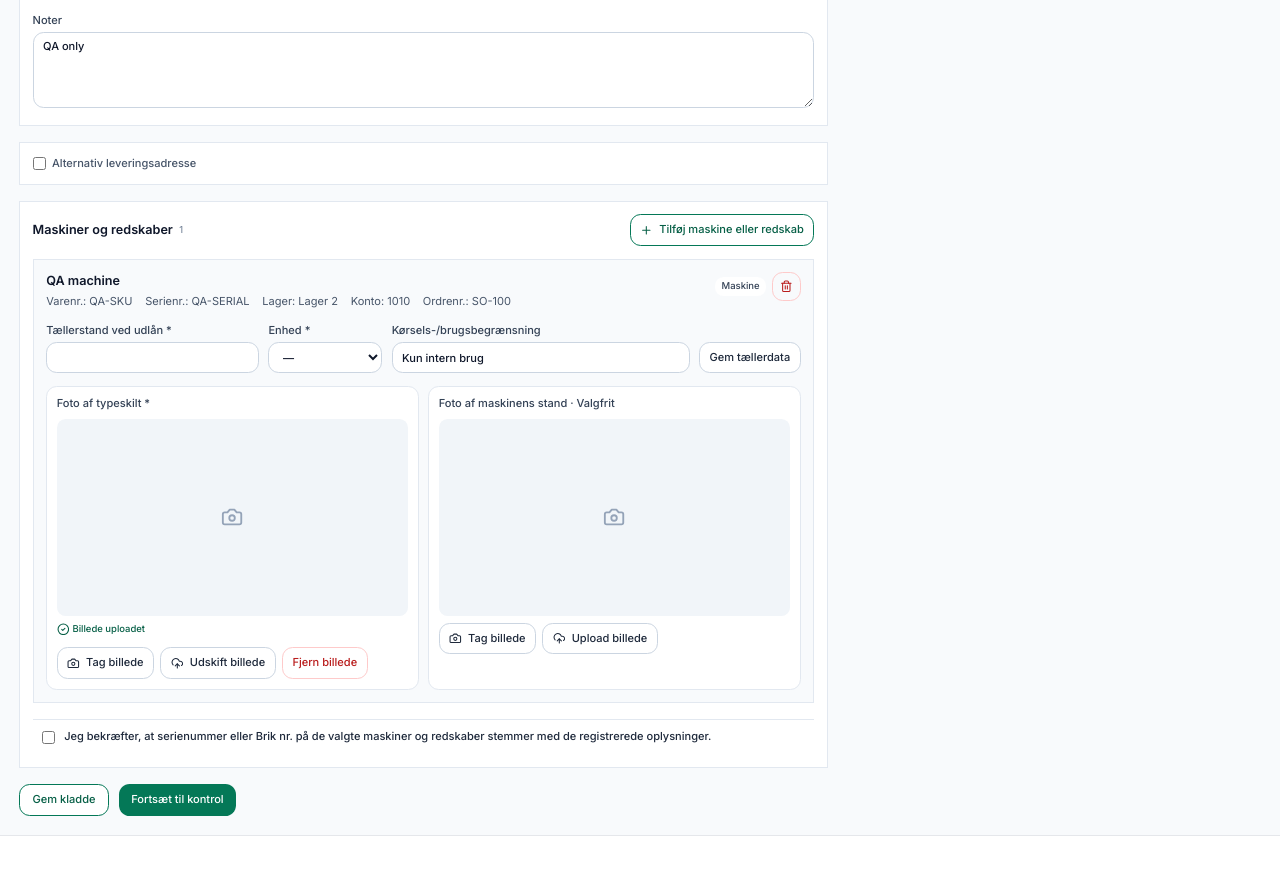
Test case: Loan form interactions › blocks incomplete evidence before any review or version request
(page scrolled)
Click the button "Fortsæt til kontrol" at (177, 800), box [119, 784, 236, 816]
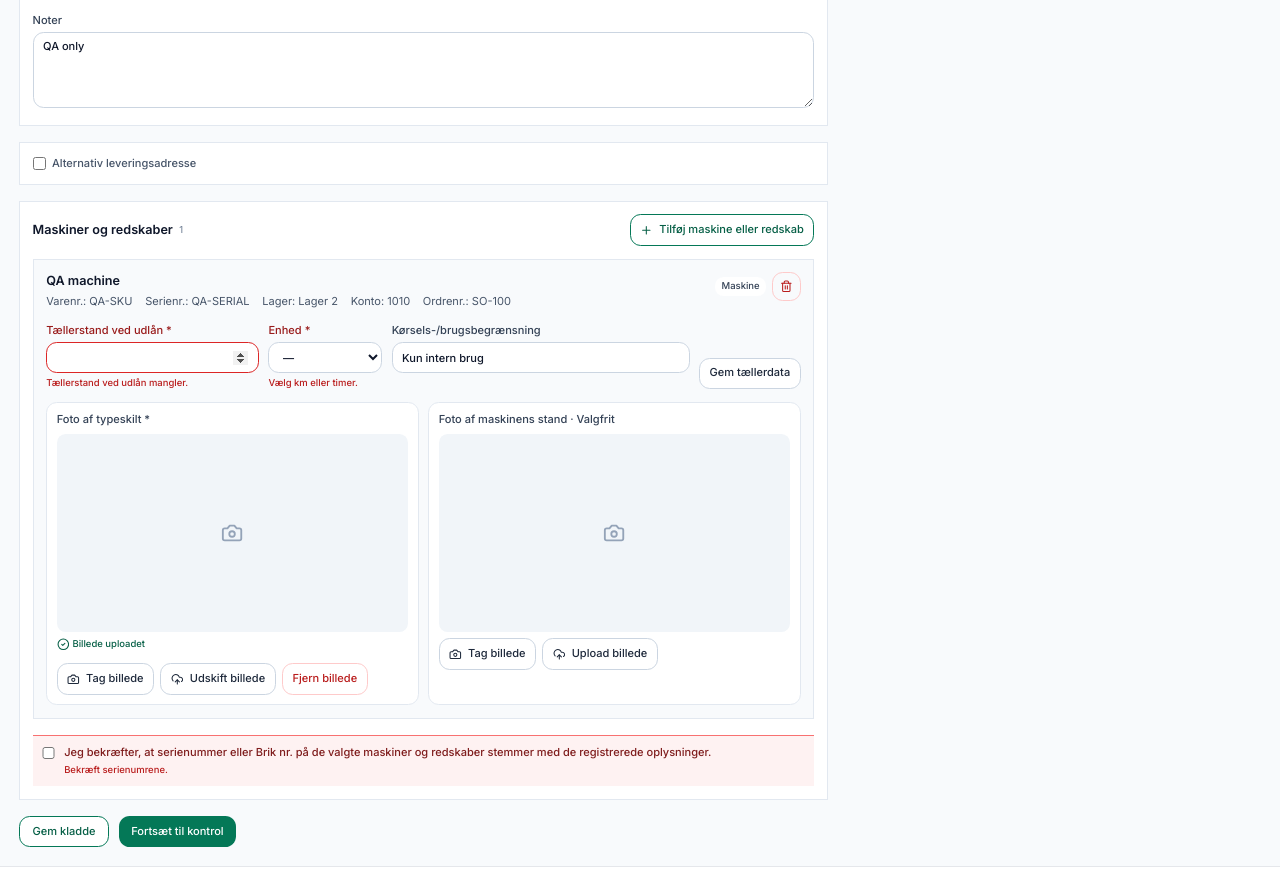
Check: the dropdown labelled "Enhed * Vælg km eller timer." is shown, box [268, 342, 382, 373]
Check: the text "Tællerstand ved udlån mangler." is shown, box [46, 376, 188, 388]
Check: the text "Bekræft serienumrene." is shown once, box [64, 764, 168, 775]
Type "12" into the number field labelled "Tællerstand ved udlån * Tællerstand ved udlån mangler." at (153, 358), box [46, 342, 259, 373]
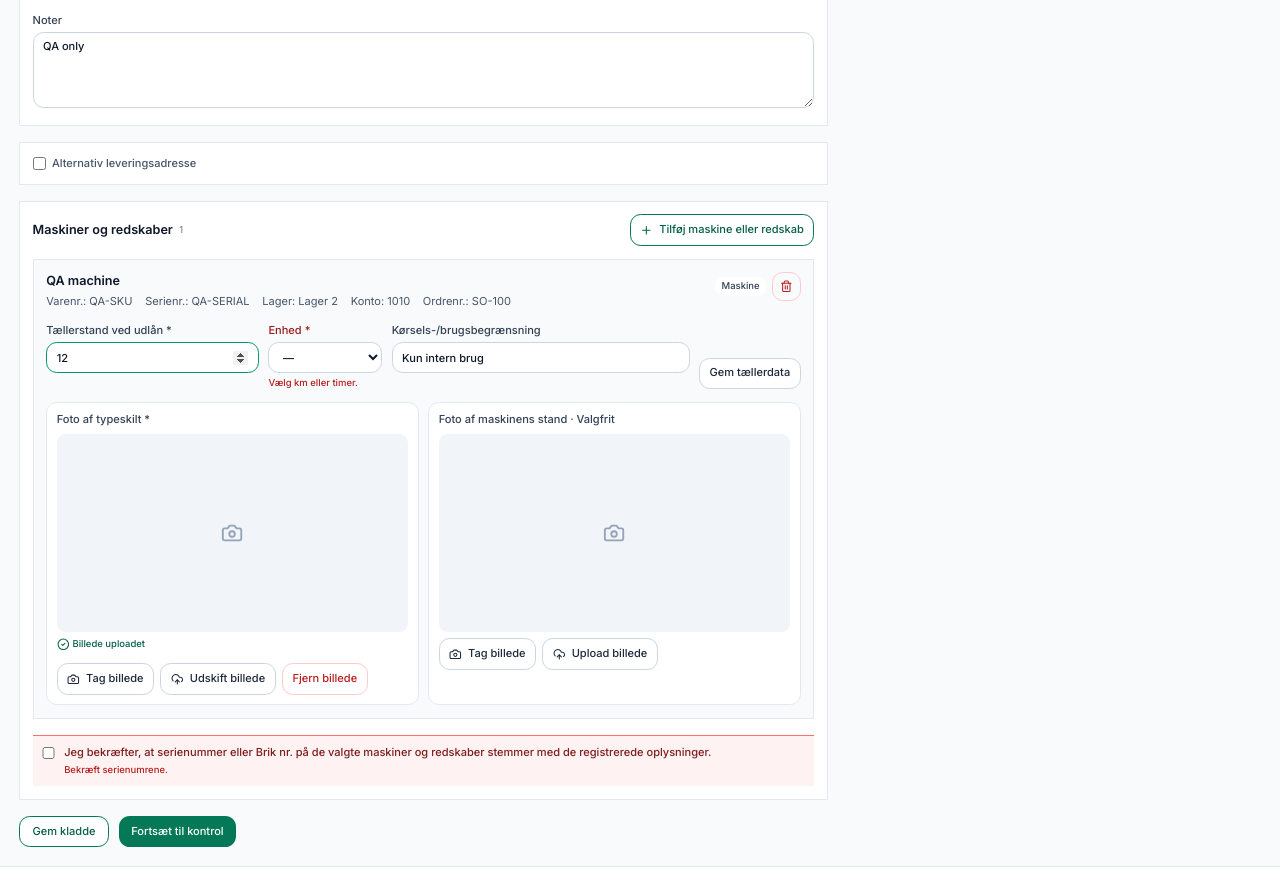
Check: the number field labelled "Tællerstand ved udlån *" does not have class "border-red-500", box [46, 342, 259, 373]
Check: the label labelled "Jeg bekræfter, at serienummer eller Brik nr." has class "border-red-400", box [33, 735, 814, 786]
Click the checkbox labelled "Jeg bekræfter, at serienummer eller Brik nr." at (48, 753), box [42, 747, 55, 759]
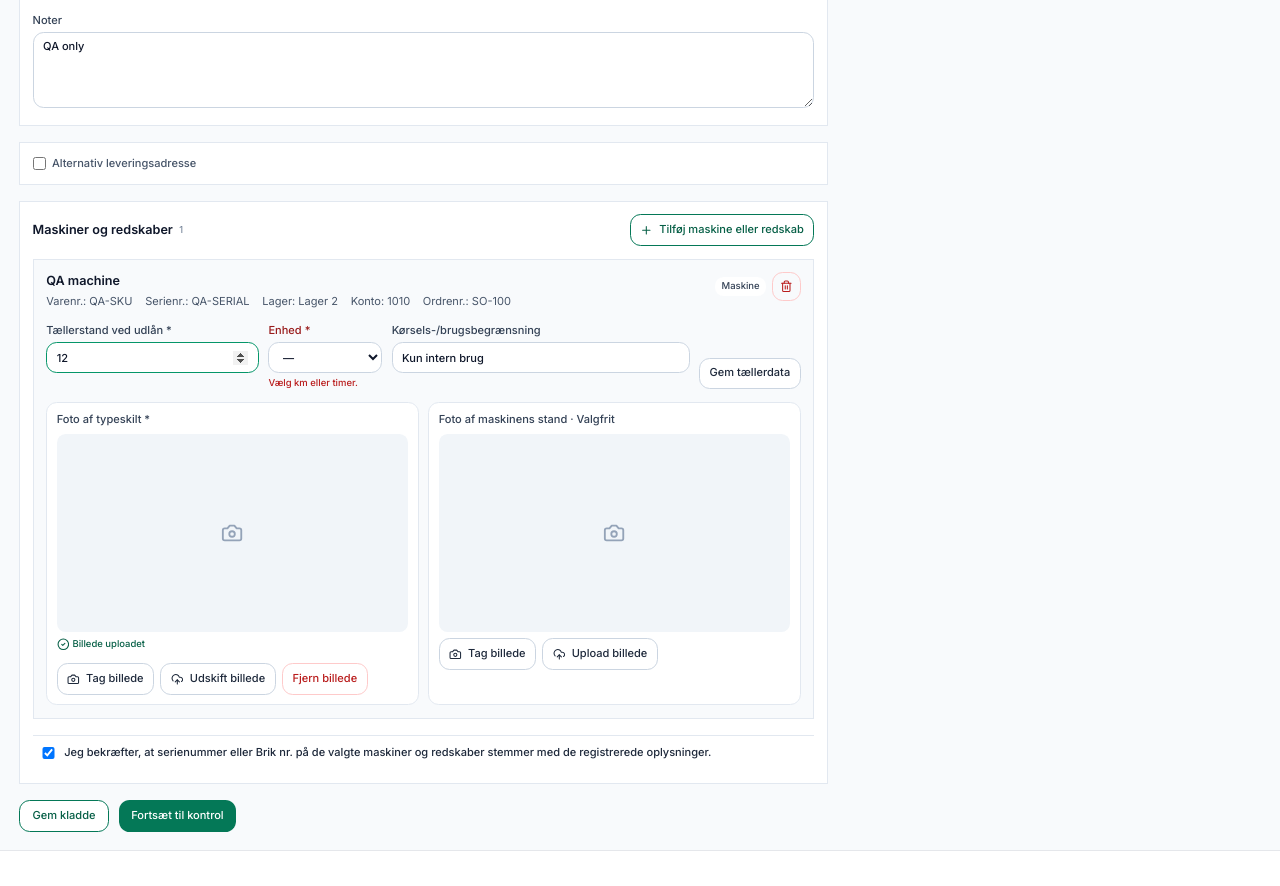
Check: the label labelled "Jeg bekræfter, at serienummer eller Brik nr." does not have class "border-red-400", box [33, 735, 814, 770]
